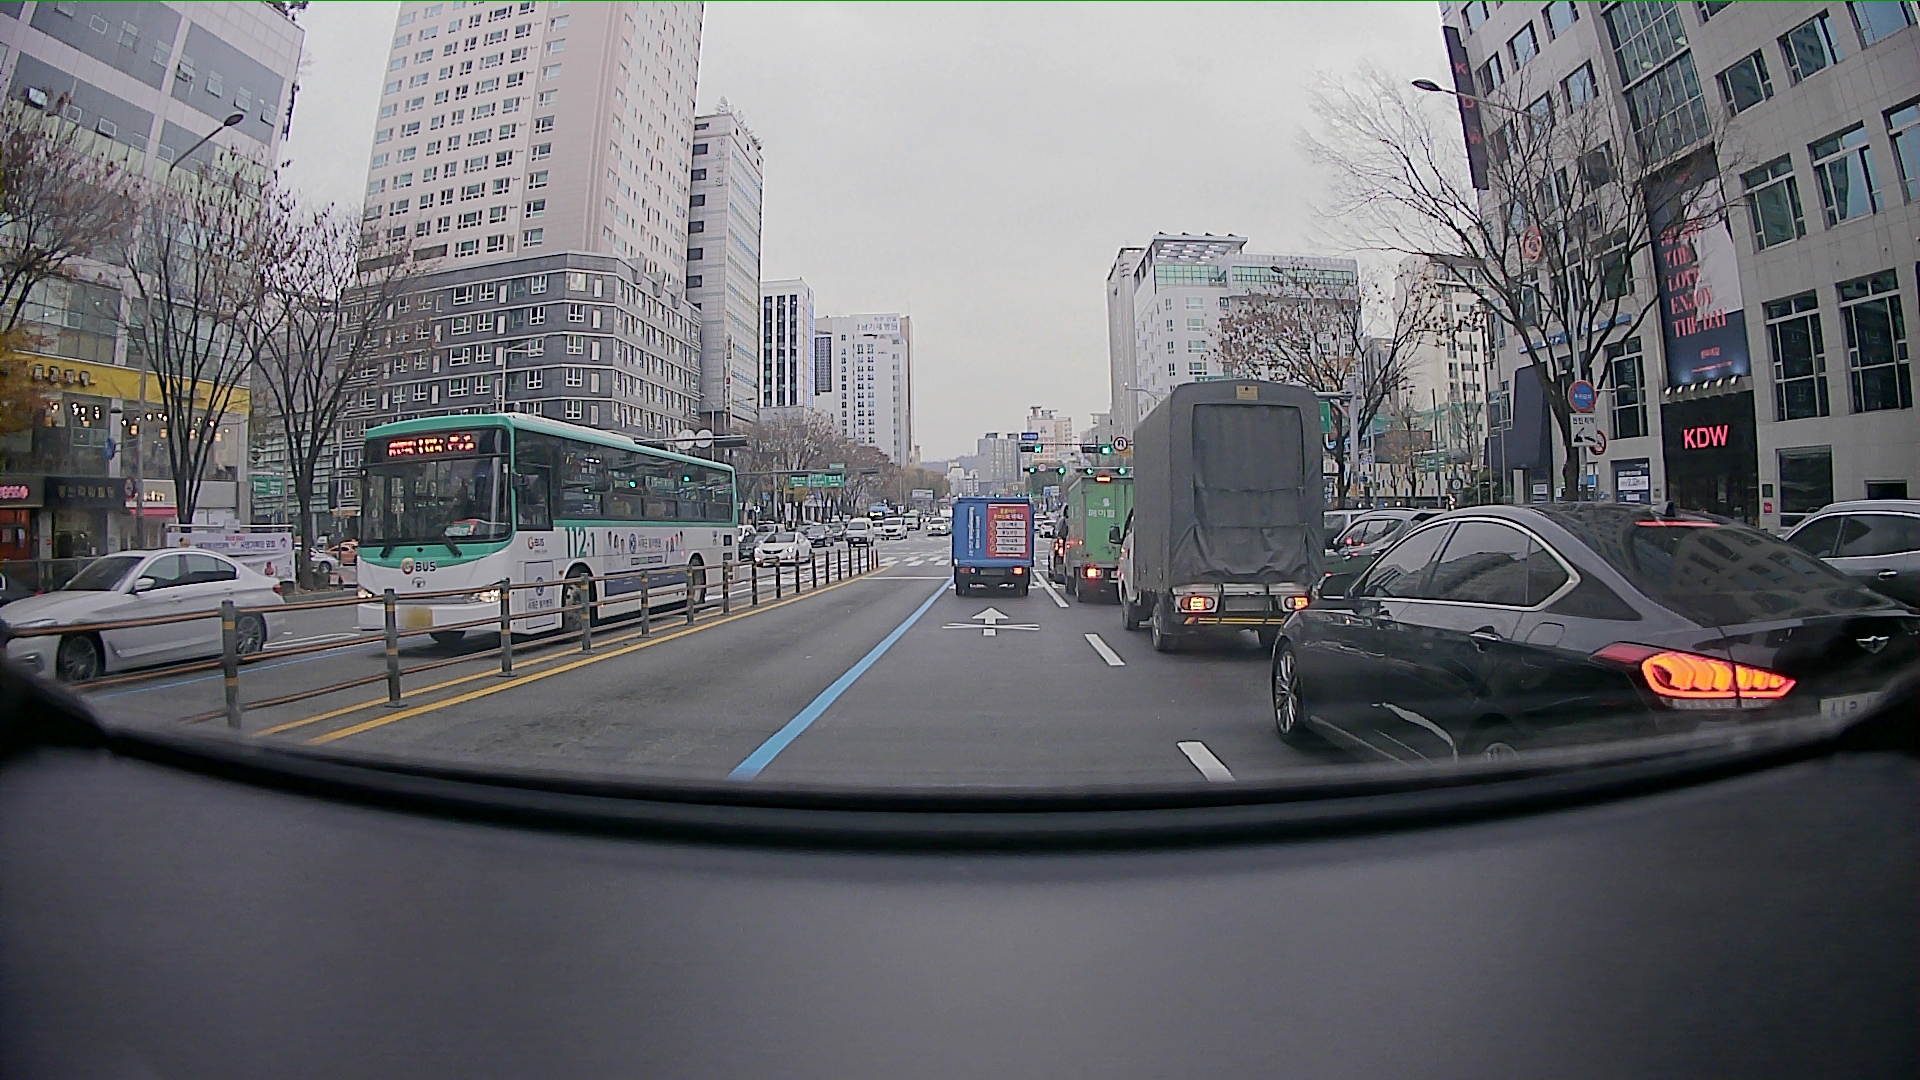trafficLight: (1018, 463, 1131, 476), (1019, 444, 1110, 455)
